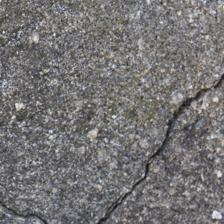Crack: (56, 0, 166, 82), (50, 37, 192, 60)
